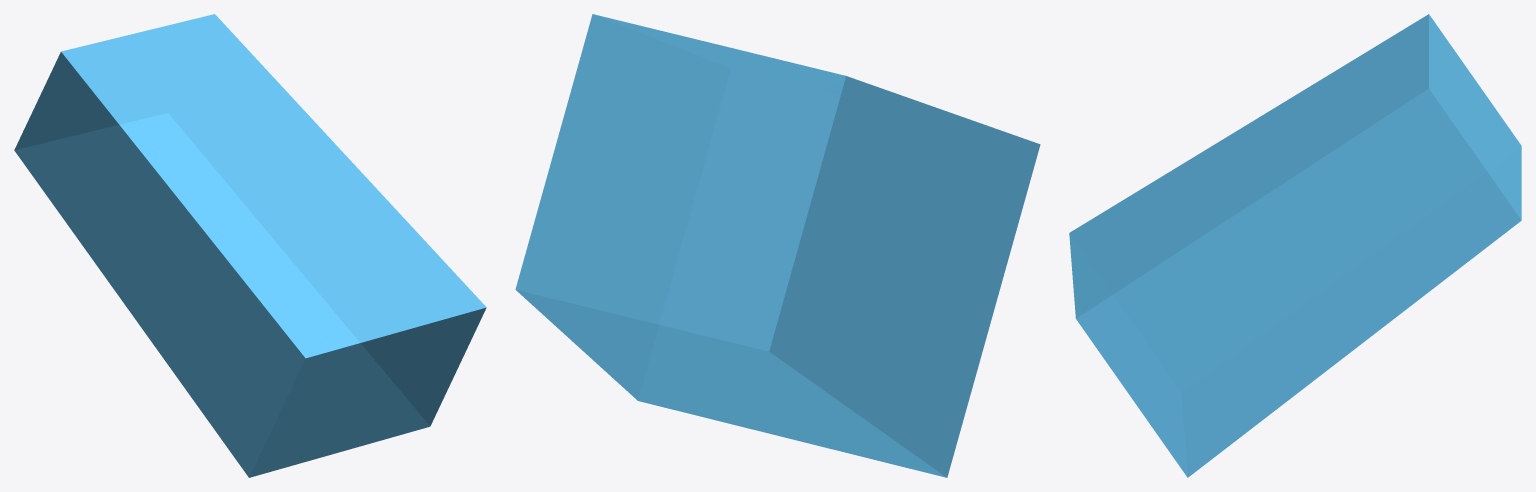
Rendered from Event_421127236_HBrechit_21.fbx.
3 views of the same model, side by side, from view 1: azimuth 30°, elevation 25°; view 2: azimuth 150°, elevation 25°; view 3: azimuth 270°, elevation 25° (orthographic). The views are drawn at different scales.
Parts seen in each view (by area): view 1: Model; view 2: Model; view 3: Model.
Boxes of the visible parts, box(x1,y1,x2,y2) form: Model: box(14, 14, 486, 477); Model: box(515, 14, 1040, 477); Model: box(1069, 14, 1521, 477).
Size of the model in its own units: 0.6606 by 0.893 by 1.05.
